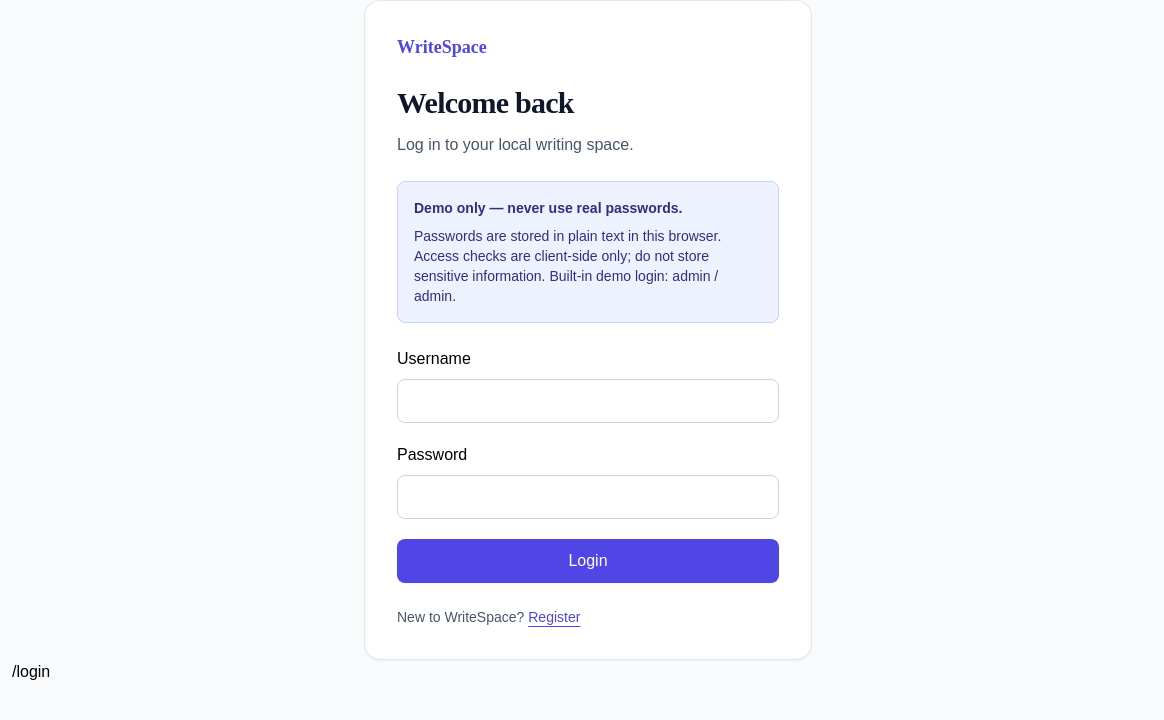
Test: login UI › surfaces session write failures without invoking successful login
The width and height of the screenshot is (1164, 720).
Type "admin" into the field labelled "Username".
click(588, 401); type("admin")  # box [397, 379, 779, 423]
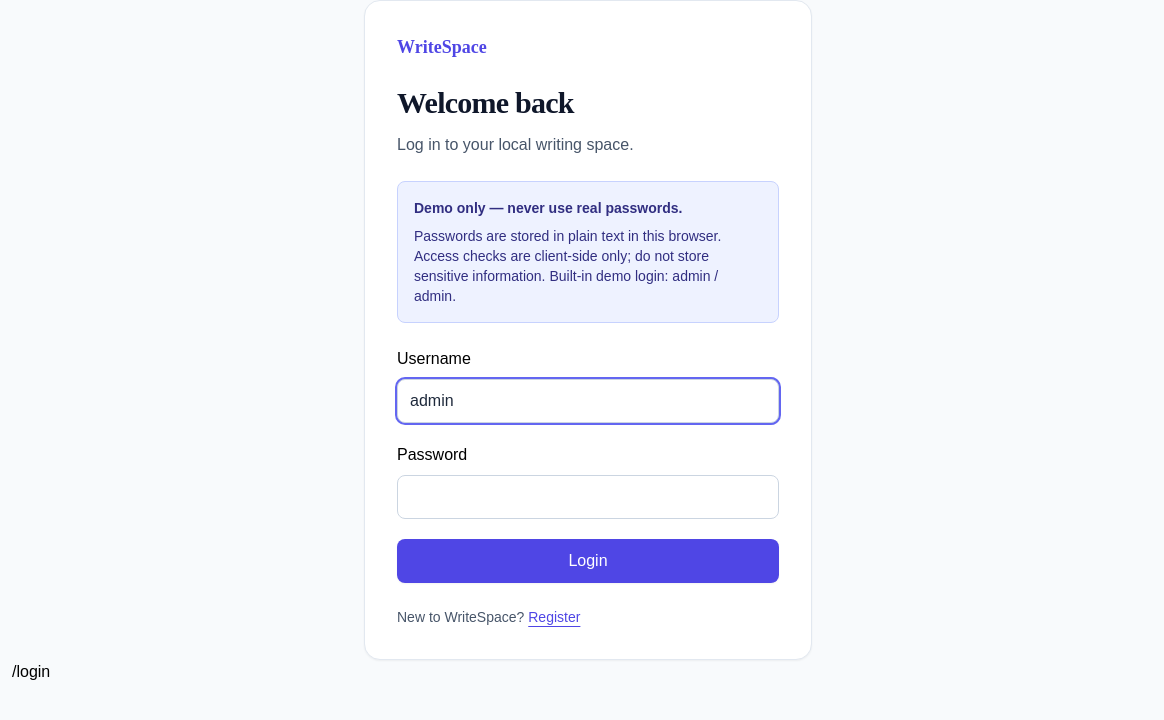
Type "admin" into the password field labelled "Password".
click(588, 497); type("admin")  # box [397, 475, 779, 519]
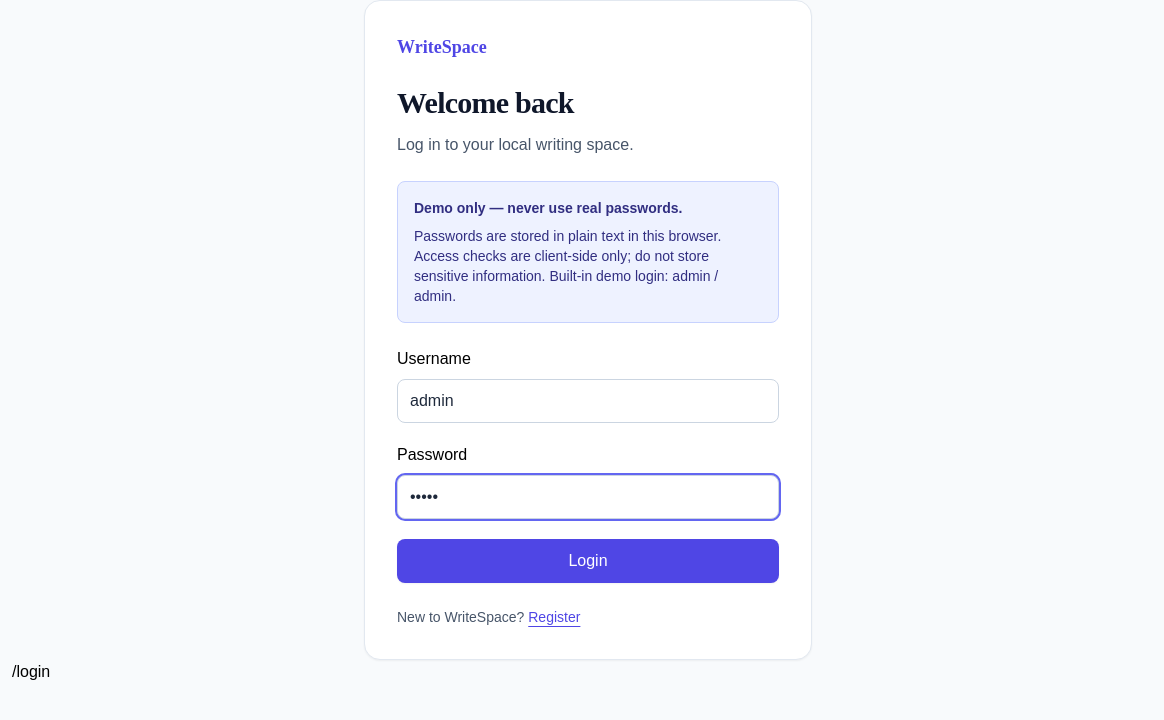
Click the button "Login".
click(588, 561)  # box [397, 539, 779, 583]
(page scrolled)
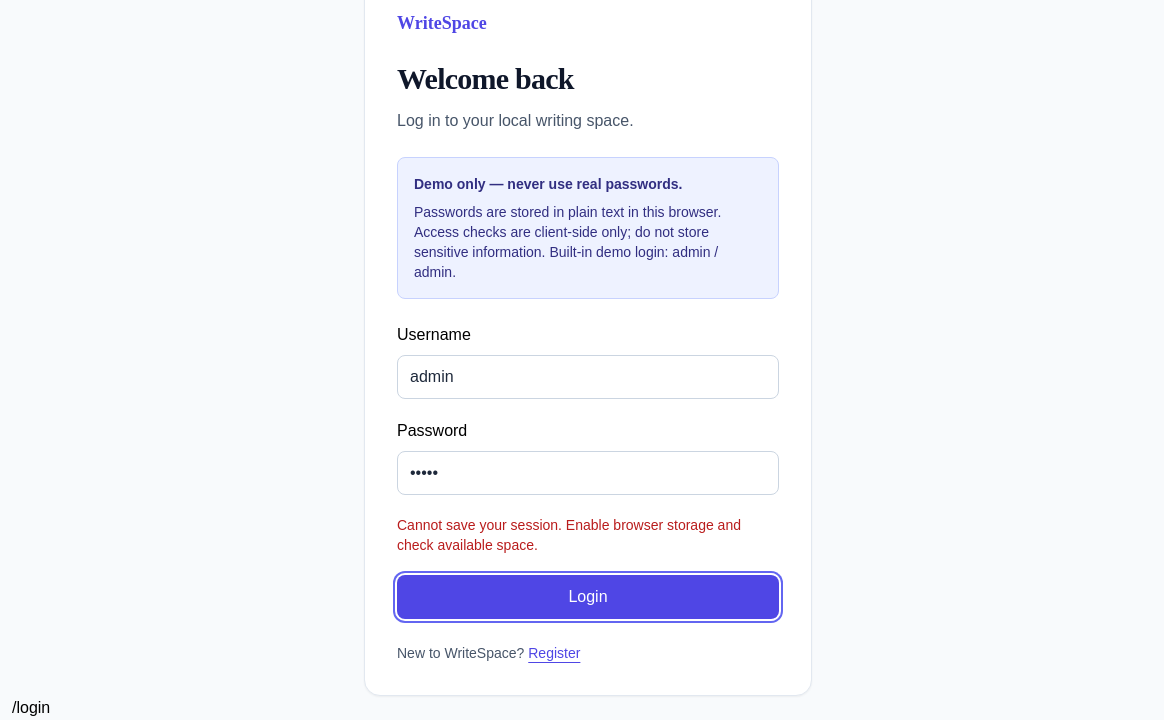
Expected: the text named "Current route" reads "/login", [12, 699, 50, 716]
Now the message shows "Cannot save your session", box [397, 517, 741, 553]
